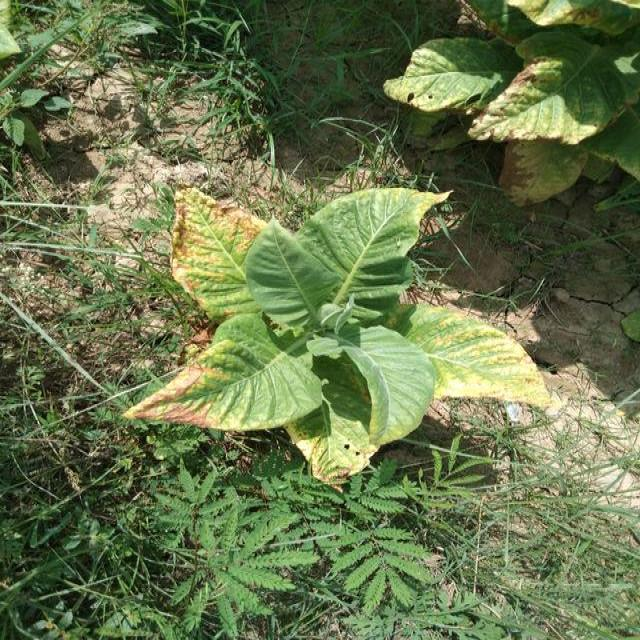crop: (130, 184, 558, 487)
